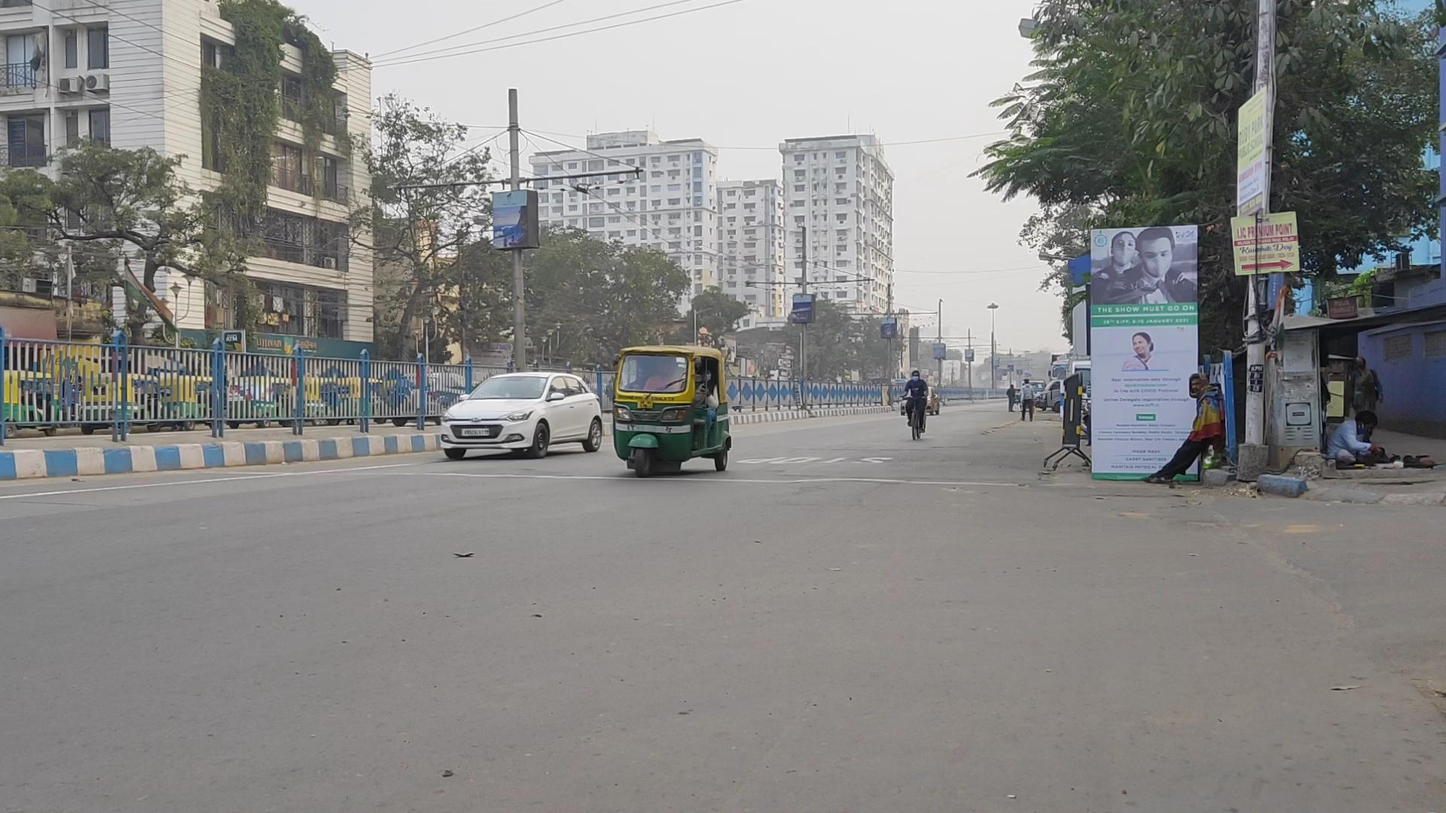Auto: (612, 344, 732, 478)
bike: (901, 370, 929, 443)
car: (438, 371, 604, 461), (901, 386, 940, 416)
